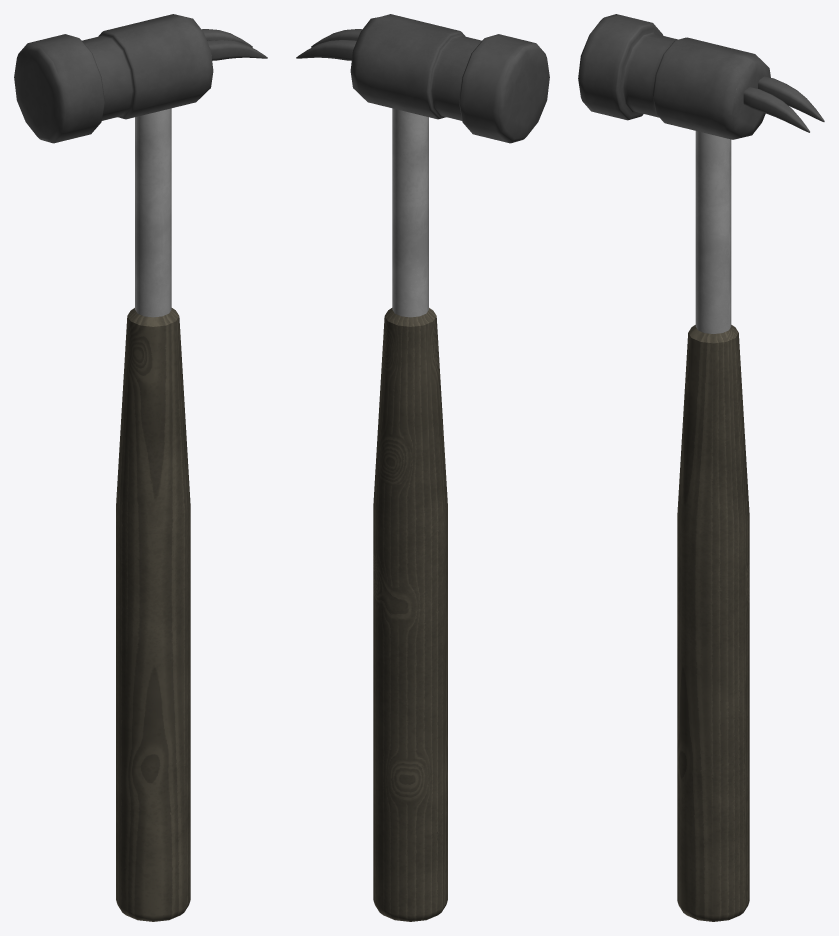
Rendered from Hammer_01.fbx.
3 renders of one model, left to right at view 1: azimuth 30°, elevation 25°; view 2: azimuth 150°, elevation 25°; view 3: azimuth 330°, elevation 25°, orthographic. The views are drawn at different scales.
Parts seen in each view (by area): view 1: Hammer_01; view 2: Hammer_01; view 3: Hammer_01.
Boxes of the visible parts, x1,y1,x2,y2 form: Hammer_01: (14,14,267,921); Hammer_01: (296,14,549,921); Hammer_01: (578,14,824,921).
Size of the model in its own units: 6.95 by 26.38 by 2.78.
